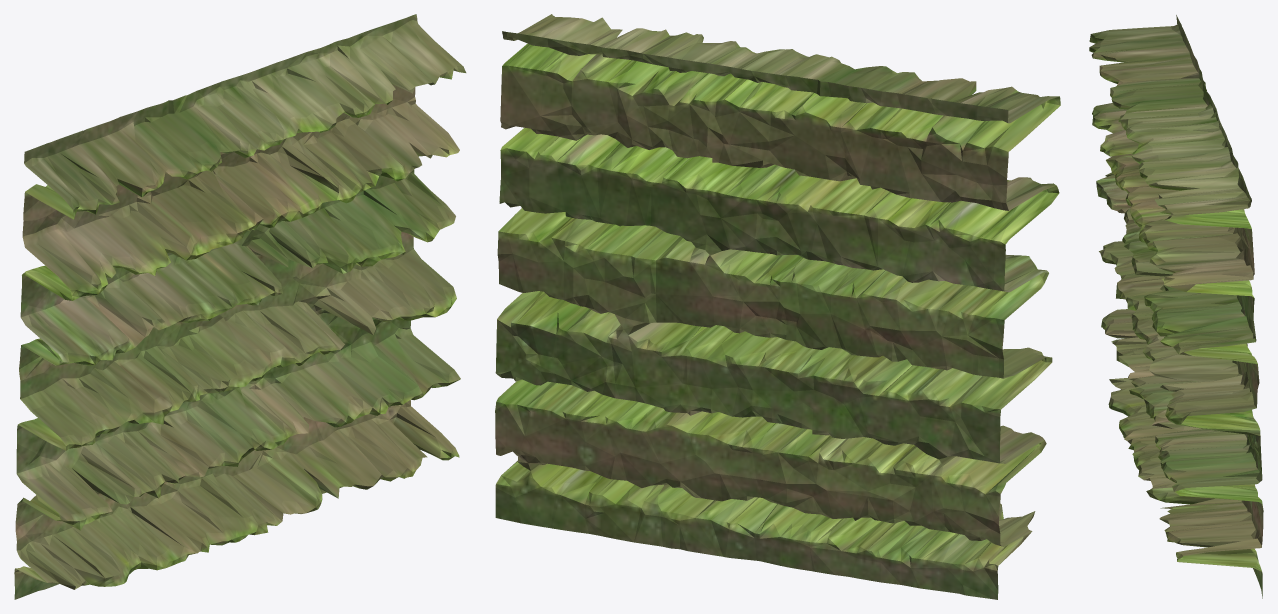
Rendered from map_240_50.obj.
The picture shows the model from 3 angles, left to right: view 1: azimuth 30°, elevation 25°; view 2: azimuth 150°, elevation 25°; view 3: azimuth 270°, elevation 25°; orthographic projection. The views are drawn at different scales.
Visible parts, largest first — view 1: grp1; view 2: grp1; view 3: grp1.
Part boxes in pixels (<box>): grp1: <box>14,14,466,599</box>; grp1: <box>495,14,1060,599</box>; grp1: <box>1089,15,1263,598</box>.
Size of the model in its own units: 10 by 10 by 3.95.
1 material, 1 textured.
